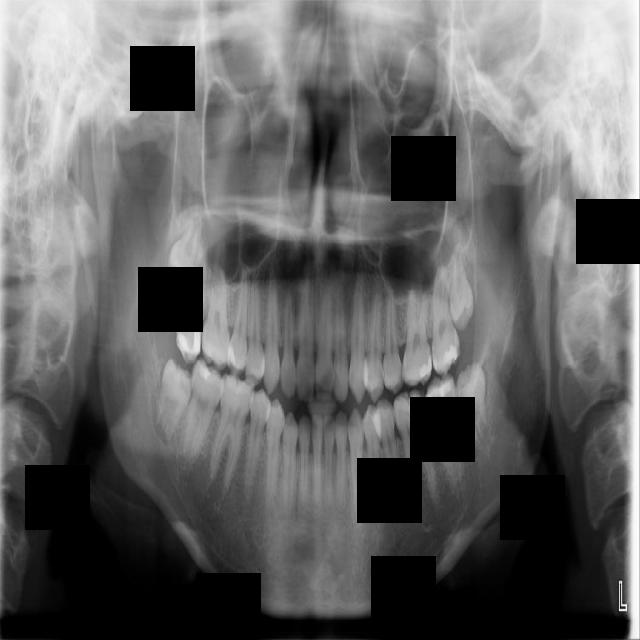3M ESPE Implant: (164, 213, 203, 296)
52: (181, 356, 233, 410), (173, 301, 204, 365), (430, 319, 461, 378), (425, 372, 457, 424), (401, 338, 433, 387), (421, 398, 426, 410)
73: (600, 589, 604, 603)
BioHorizons Implant: (431, 263, 460, 377)
BioLife Implant: (448, 250, 476, 332)
Biomet 3i Implant: (455, 360, 489, 446)
Blue Sky Bio Implant: (423, 372, 463, 486)
Caries: (173, 247, 211, 365)
Implant: (180, 357, 227, 468)
Keystone Dental Implant: (150, 357, 198, 442)
